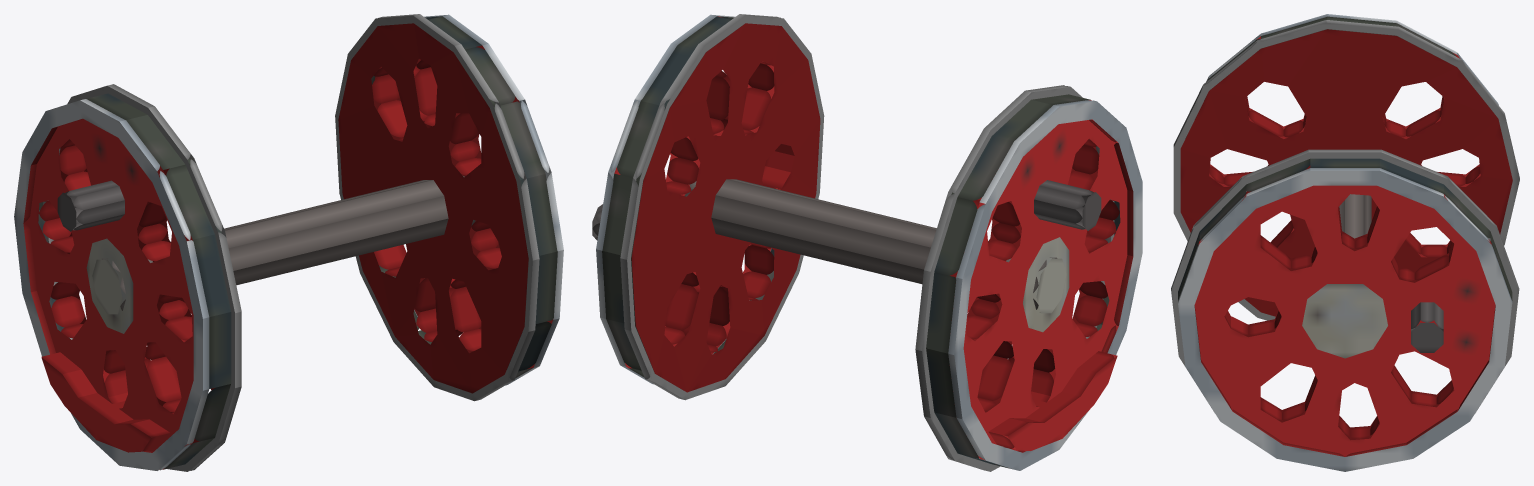
File: drive_wheel_1_5.obj
The picture shows the model from 3 angles, left to right: view 1: azimuth 30°, elevation 25°; view 2: azimuth 150°, elevation 25°; view 3: azimuth 270°, elevation 25°; orthographic projection. The views are drawn at different scales.
Parts seen in each view (by area): view 1: cylinder; view 2: cylinder; view 3: cylinder.
Boxes of the visible parts, box(x1,y1,x2,y2) form: cylinder: box(14, 14, 563, 471); cylinder: box(592, 14, 1142, 471); cylinder: box(1171, 14, 1519, 471).
Bounding box in the file's own units: 2.06 × 1.59 × 1.59.
